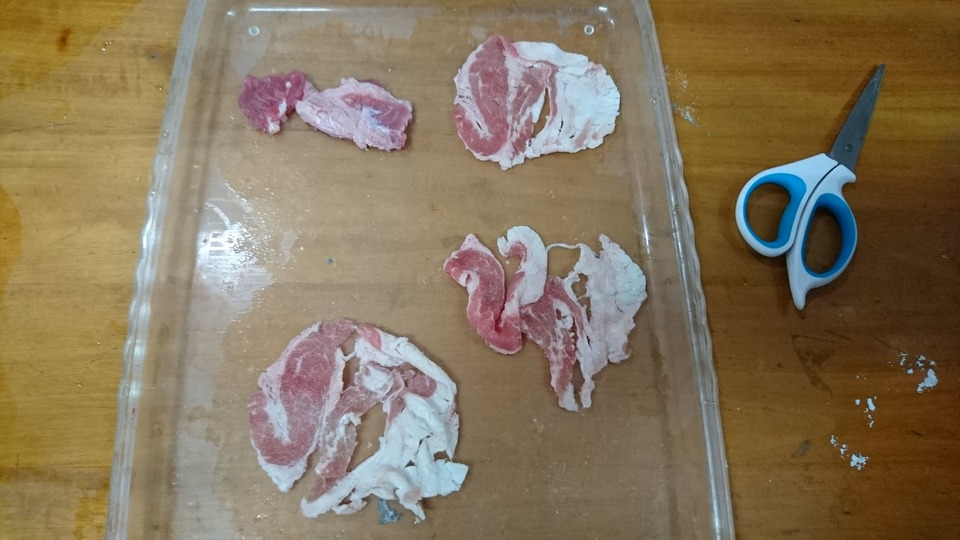restructured meat: (247, 321, 469, 528), (437, 213, 649, 413), (447, 30, 620, 171), (236, 62, 420, 155)
